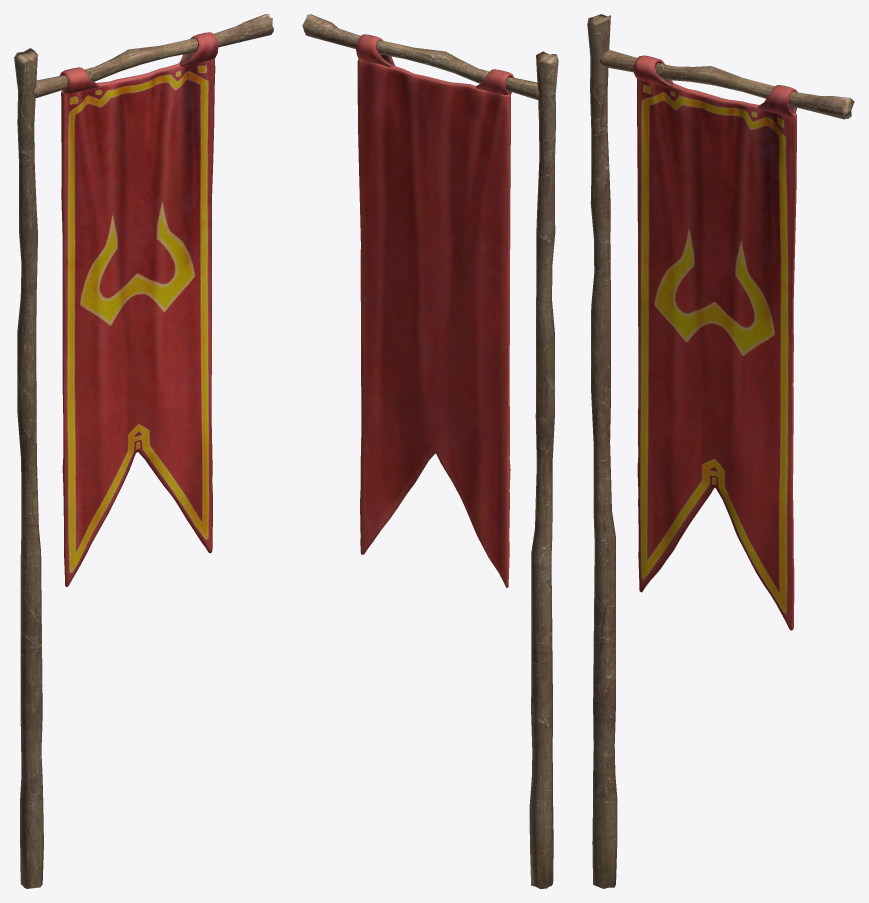
3 views of the same model, side by side, from view 1: azimuth 30°, elevation 25°; view 2: azimuth 150°, elevation 25°; view 3: azimuth 330°, elevation 25° (orthographic). The views are drawn at different scales.
Visible parts, largest first — view 1: SM_Single_Banner_Zamorak_03v2_LOD0; view 2: SM_Single_Banner_Zamorak_03v2_LOD0; view 3: SM_Single_Banner_Zamorak_03v2_LOD0.
Part boxes in pixels (box(x1,y1,x2,y2)): SM_Single_Banner_Zamorak_03v2_LOD0: box(14, 14, 273, 888); SM_Single_Banner_Zamorak_03v2_LOD0: box(302, 14, 558, 888); SM_Single_Banner_Zamorak_03v2_LOD0: box(587, 14, 854, 888).
Bounding box in the file's own units: 1.39 × 4.39 × 0.1182.
2 materials, 2 textured.
